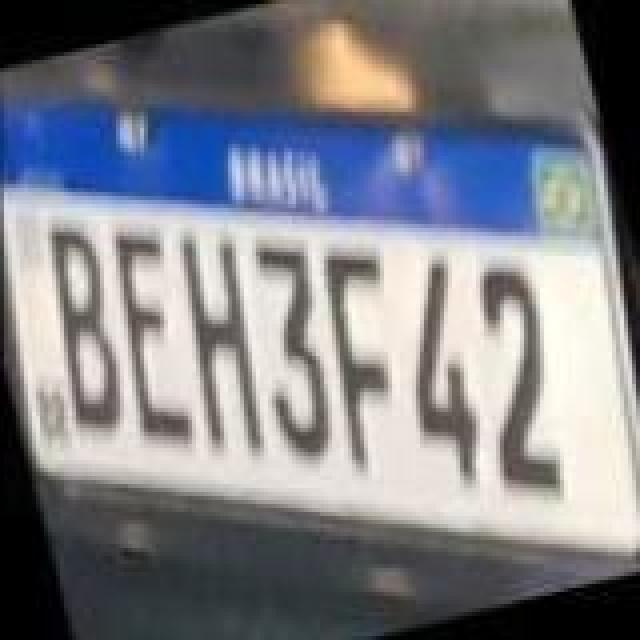2: (450, 250, 582, 502)
3: (234, 240, 354, 464)
4: (384, 260, 500, 488)
B: (24, 224, 140, 440)
E: (92, 226, 208, 450)
F: (298, 244, 426, 468)
H: (158, 228, 286, 464)
